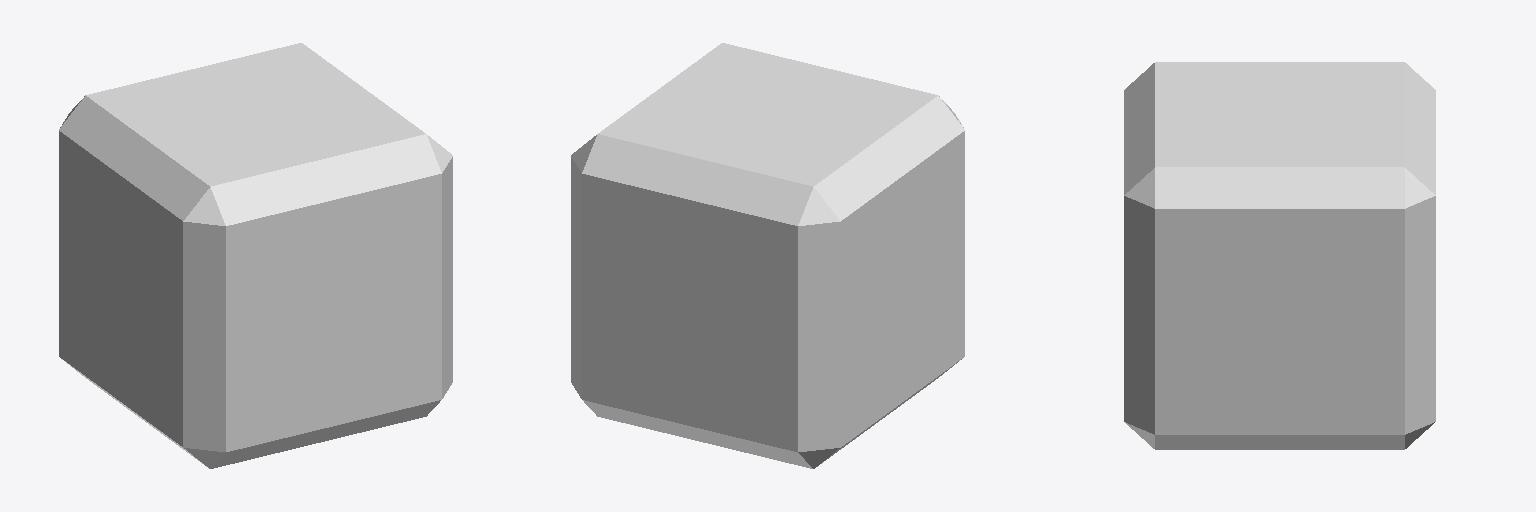
The model's file is mis_obj_reproblock_SD.obj.
3 views of the same model, side by side, from view 1: azimuth 30°, elevation 25°; view 2: azimuth 150°, elevation 25°; view 3: azimuth 270°, elevation 25° (orthographic).
Visible parts, largest first — view 1: polygon0; view 2: polygon0; view 3: polygon0.
Boxes of the visible parts, x1,y1,x2,y2 form: polygon0: [59, 43, 452, 468]; polygon0: [571, 43, 964, 468]; polygon0: [1124, 62, 1435, 449].
Bounding box in the file's own units: 20 × 20 × 20.